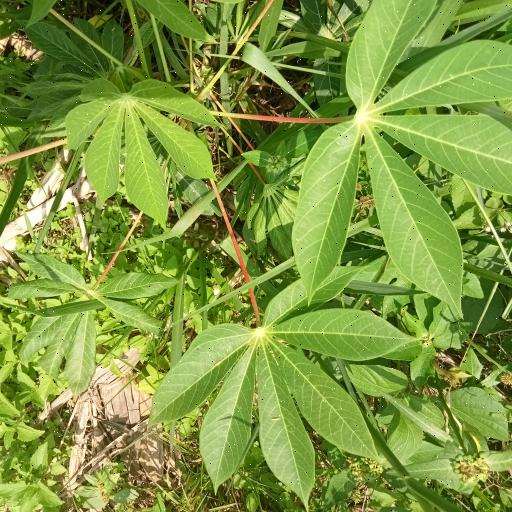Cassava_Healthy: (299, 1, 512, 294), (155, 269, 408, 496), (64, 70, 225, 226)
